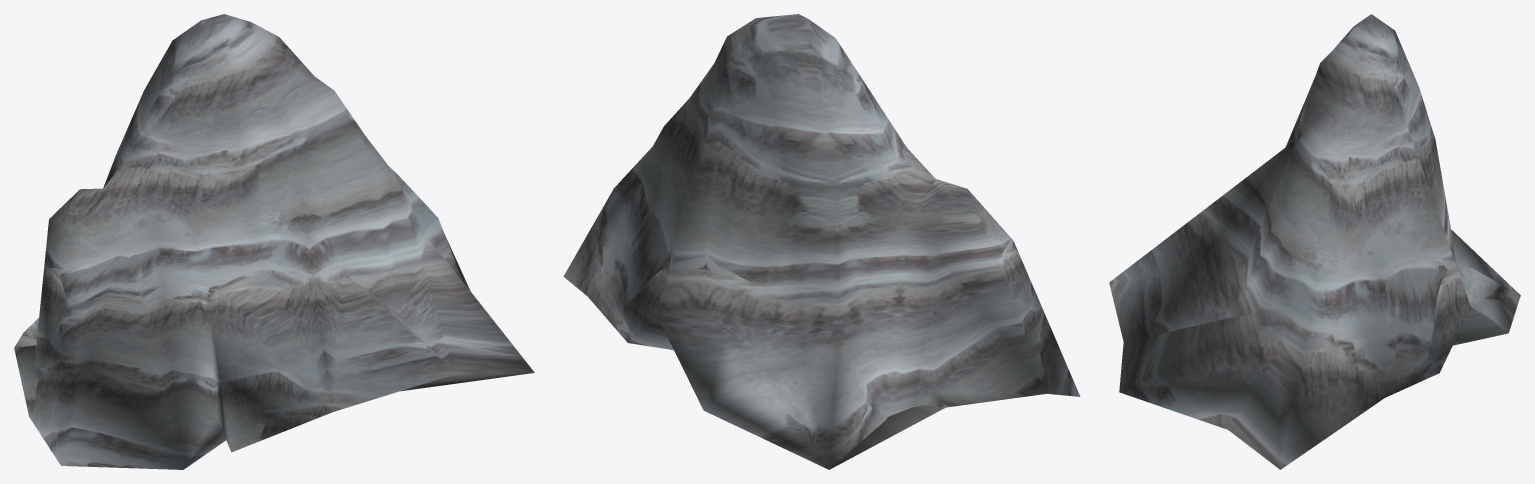
The model's file is SnowyMountain_2.gltf.
The picture shows the model from 3 angles, left to right: view 1: azimuth 30°, elevation 25°; view 2: azimuth 150°, elevation 25°; view 3: azimuth 270°, elevation 25°; orthographic projection. The views are drawn at different scales.
Visible parts, largest first — view 1: SnowyMountain_2; view 2: SnowyMountain_2; view 3: SnowyMountain_2.
Part boxes in pixels (x1,y1,x2,y2): SnowyMountain_2: (14, 14, 534, 469); SnowyMountain_2: (563, 14, 1080, 469); SnowyMountain_2: (1109, 14, 1520, 469).
Size of the model in its own units: 169 by 132 by 141.
1 material, 1 textured.
